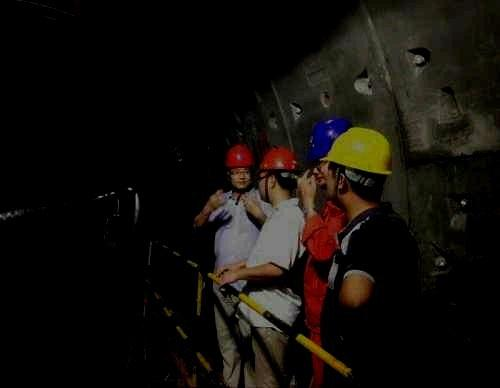helmet: (319, 127, 394, 209), (304, 116, 354, 186), (258, 146, 299, 202), (225, 142, 255, 189)
